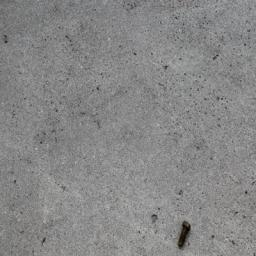FOD: (172, 219, 194, 252)
